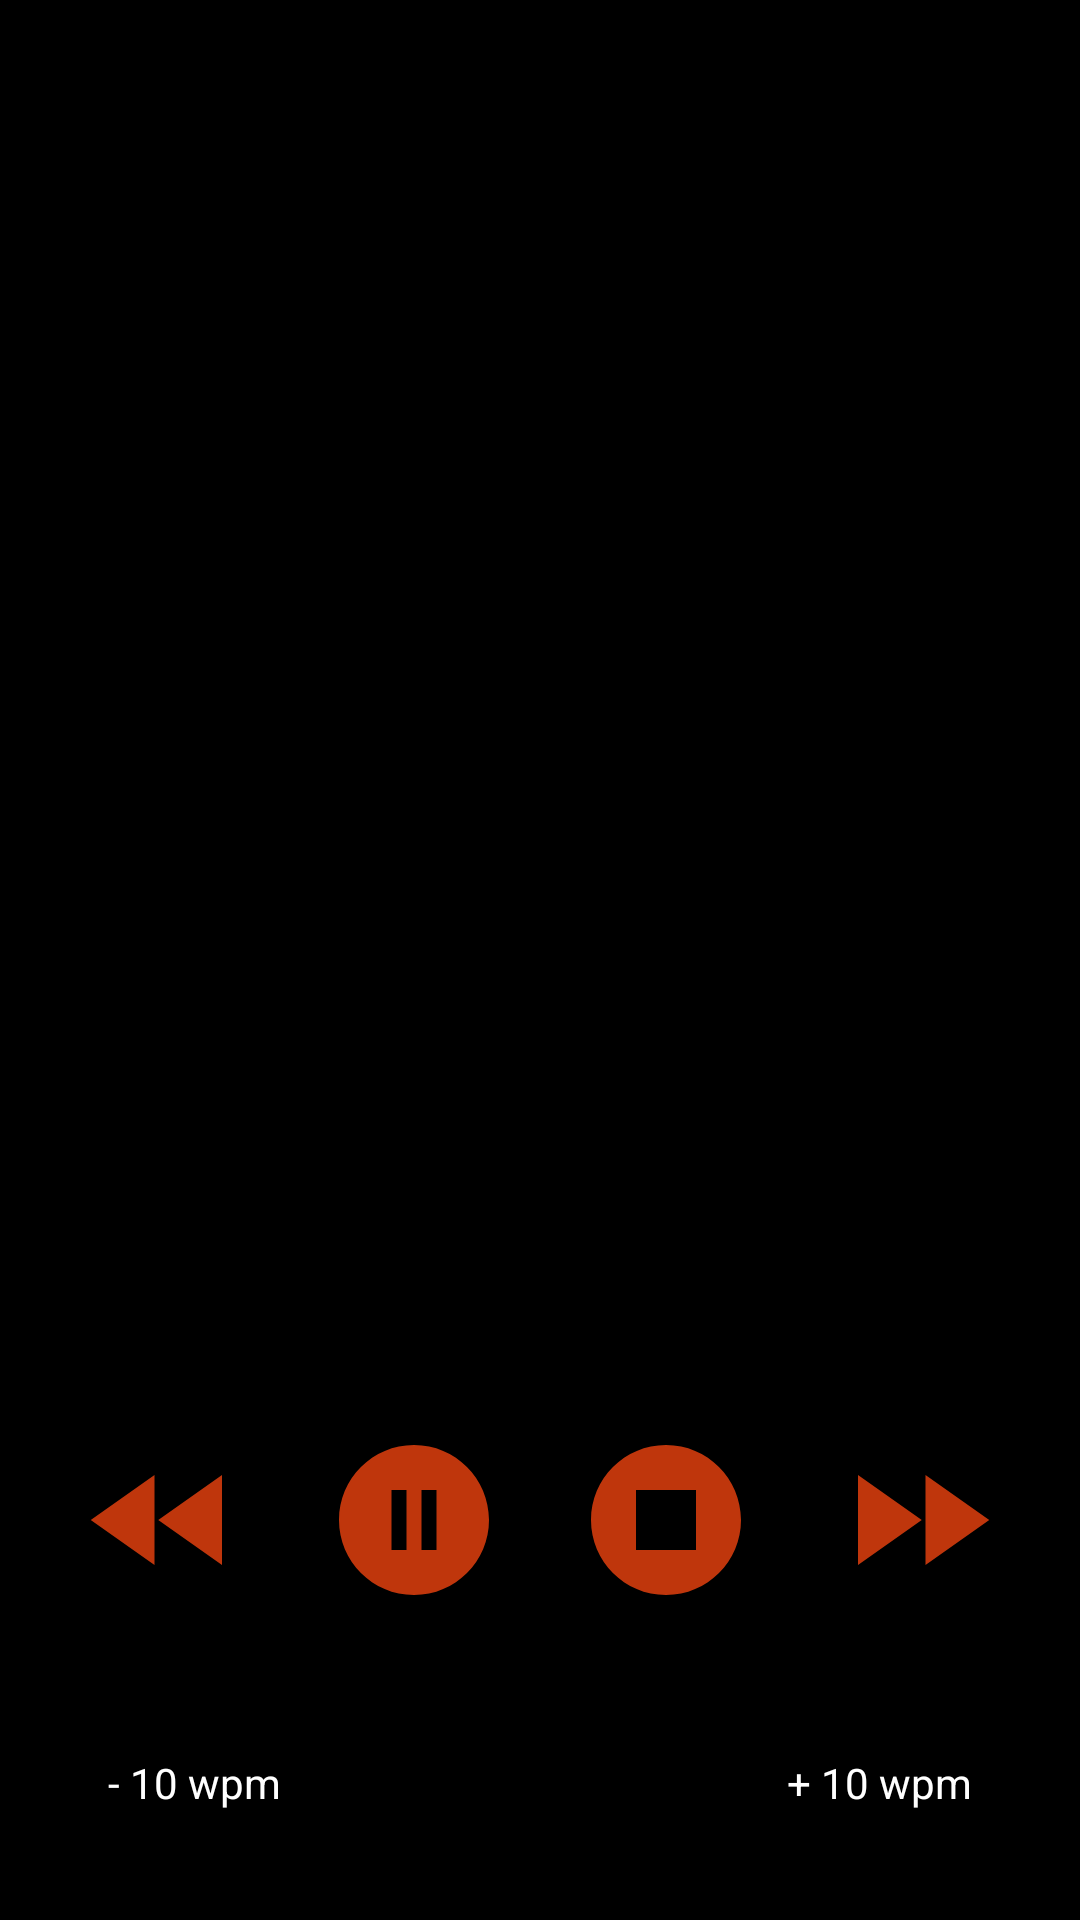

Named icons in this screenshot (1080×1920) and their centers, [x,y]:
fast forward: [923,1520]
fast rewind: [156,1520]
pause circle: [414,1520]
stop circle: [666,1520]
